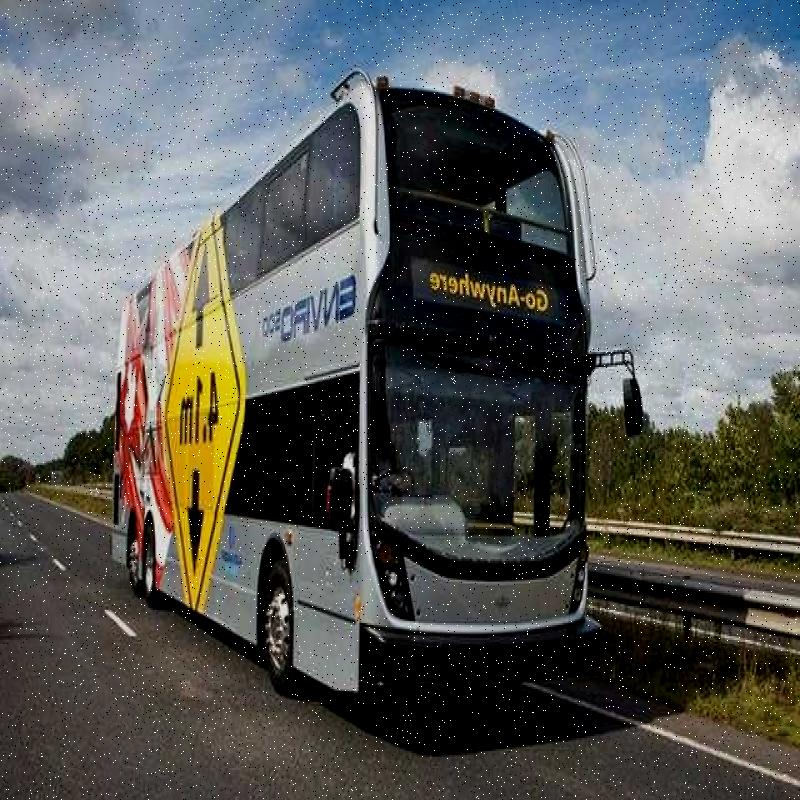bus: (75, 58, 593, 780)
